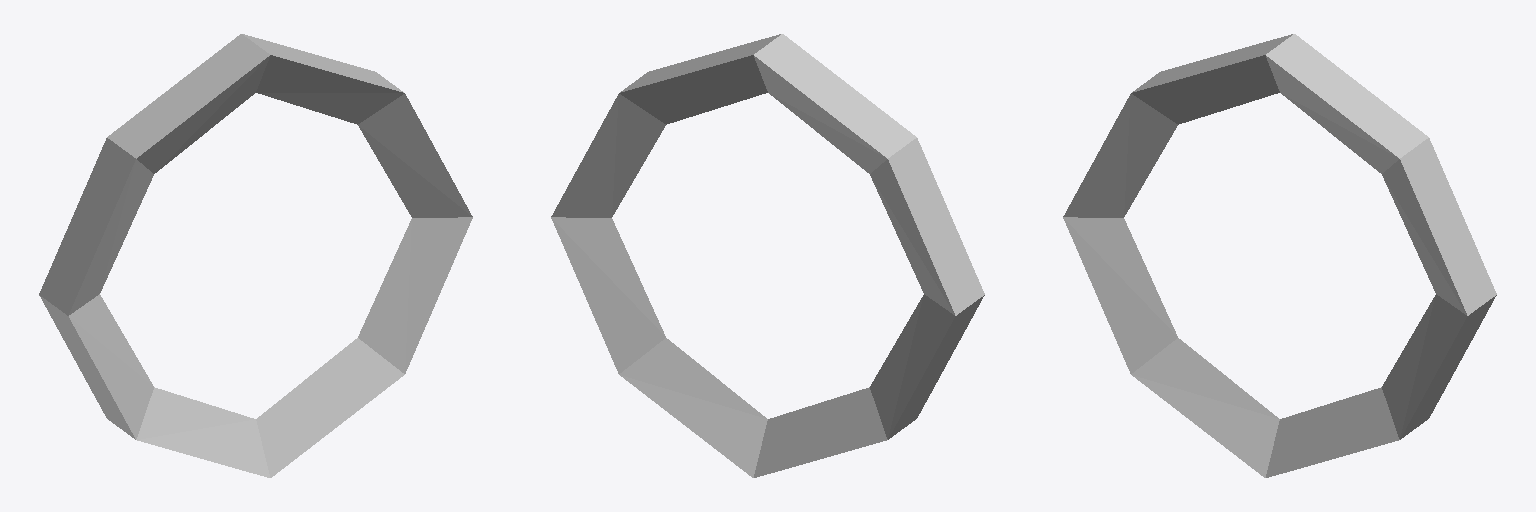
File: RING00.obj
3 views of the same model, side by side, from view 1: azimuth 30°, elevation 25°; view 2: azimuth 150°, elevation 25°; view 3: azimuth 330°, elevation 25° (orthographic).
Visible parts, largest first — view 1: RING00_Cube.005; view 2: RING00_Cube.005; view 3: RING00_Cube.005.
Boxes of the visible parts, box(x1,y1,x2,y2) form: RING00_Cube.005: box(39, 34, 472, 477); RING00_Cube.005: box(551, 34, 984, 477); RING00_Cube.005: box(1063, 34, 1496, 477).
Bounding box in the file's own units: 97.45 × 97.45 × 12.24.